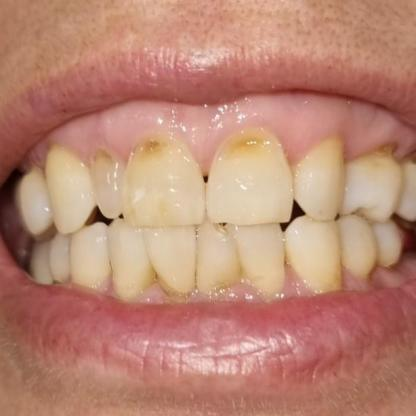Crowding: (194, 224, 288, 298)
